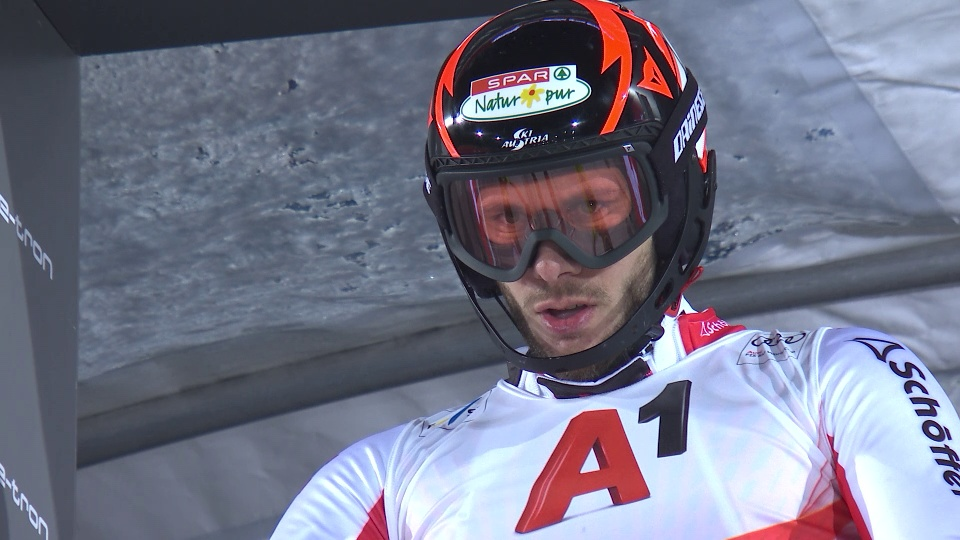a1: (491, 378, 712, 540)
spar: (474, 65, 573, 92)
